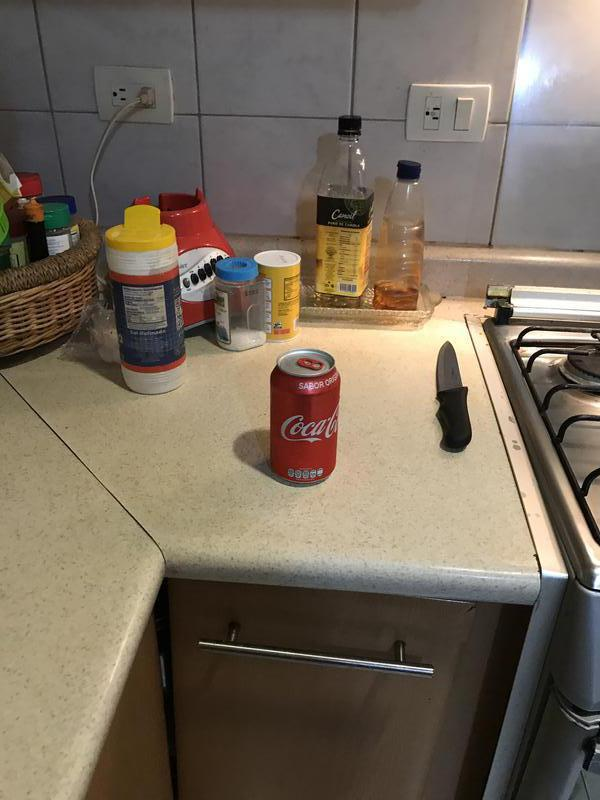coca_cola: (271, 350, 339, 484)
